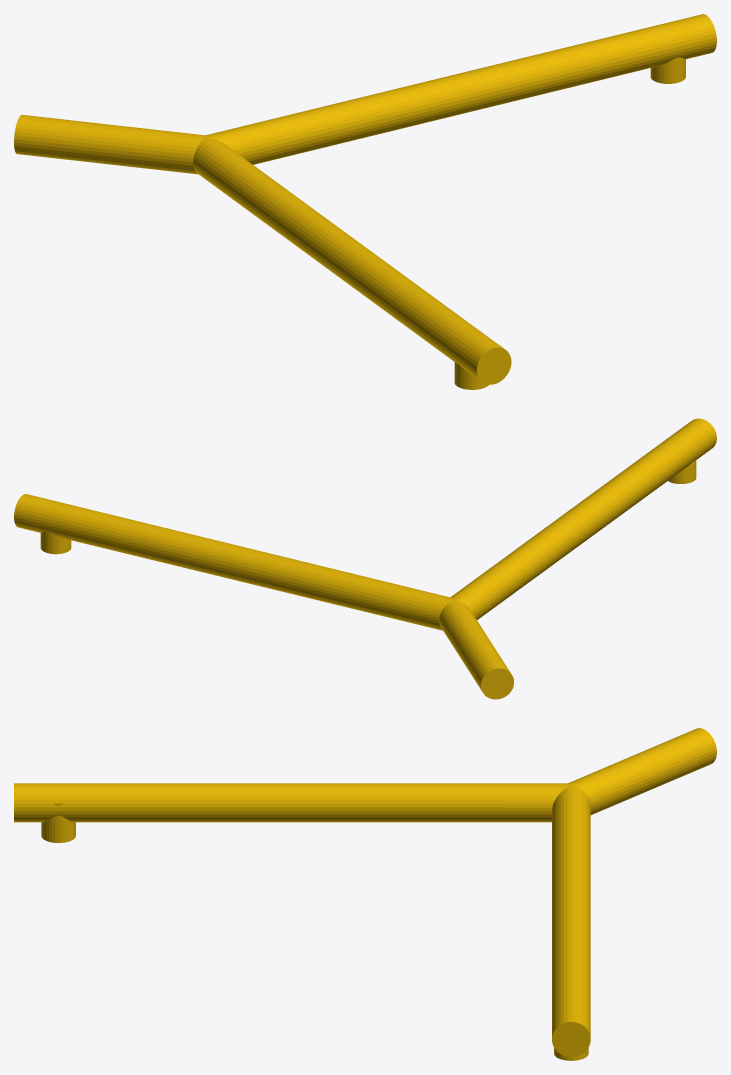
Rendered from PedestrianTrafficLightJoint.fbx.
3 views of the same model, one above another, from view 1: azimuth 30°, elevation 25°; view 2: azimuth 150°, elevation 25°; view 3: azimuth 270°, elevation 25° (orthographic). The views are drawn at different scales.
Visible parts, largest first — view 1: 円柱; view 2: 円柱; view 3: 円柱.
Boxes of the visible parts, left/top/right/bottom form: 円柱: left=14, top=14, right=716, bottom=389; 円柱: left=14, top=418, right=716, bottom=699; 円柱: left=14, top=728, right=716, bottom=1060.
Size of the model in its own units: 374 by 29.2 by 372.
